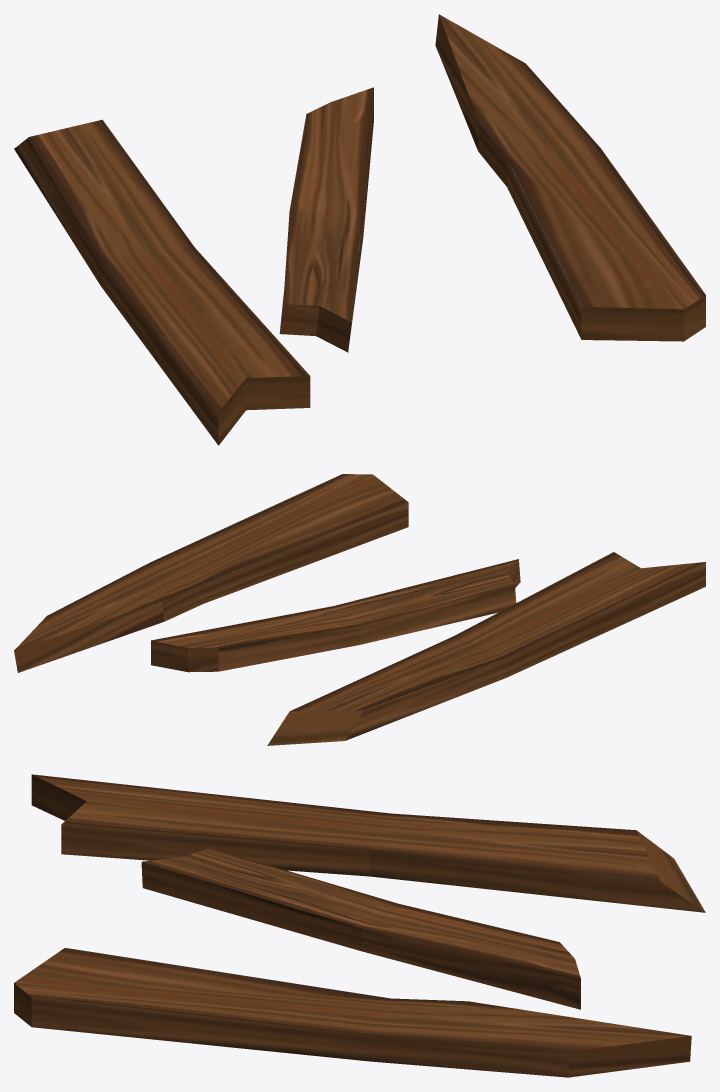
File: WoodenPlanks.fbx
3 renders of one model, top to bottom at view 1: azimuth 30°, elevation 25°; view 2: azimuth 150°, elevation 25°; view 3: azimuth 270°, elevation 25°, orthographic. The views are drawn at different scales.
Parts seen in each view (by area): view 1: WoodenPlanks.001; view 2: WoodenPlanks.001; view 3: WoodenPlanks.001.
Part boxes in pixels (x1,y1,x2,y2): WoodenPlanks.001: [14, 14, 705, 445]; WoodenPlanks.001: [14, 474, 705, 745]; WoodenPlanks.001: [14, 774, 705, 1077].
Size of the model in its own units: 0.9647 by 0.0672 by 1.04.
1 material, 1 textured.
